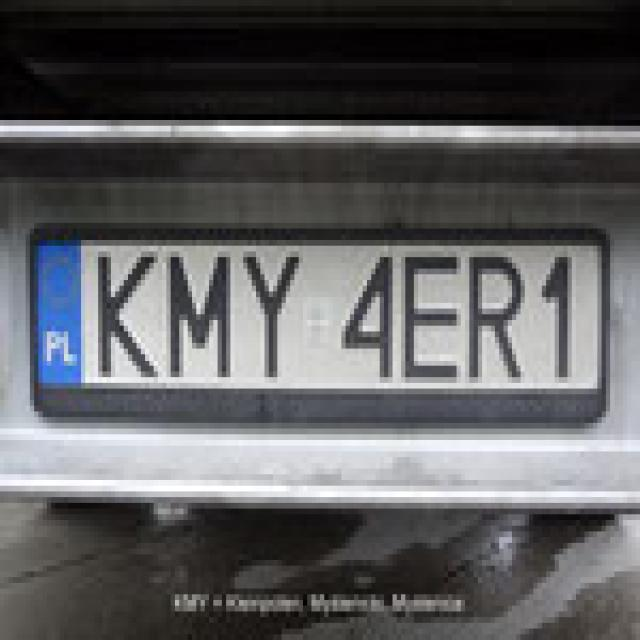pl_license_plate: (30, 234, 597, 383)
